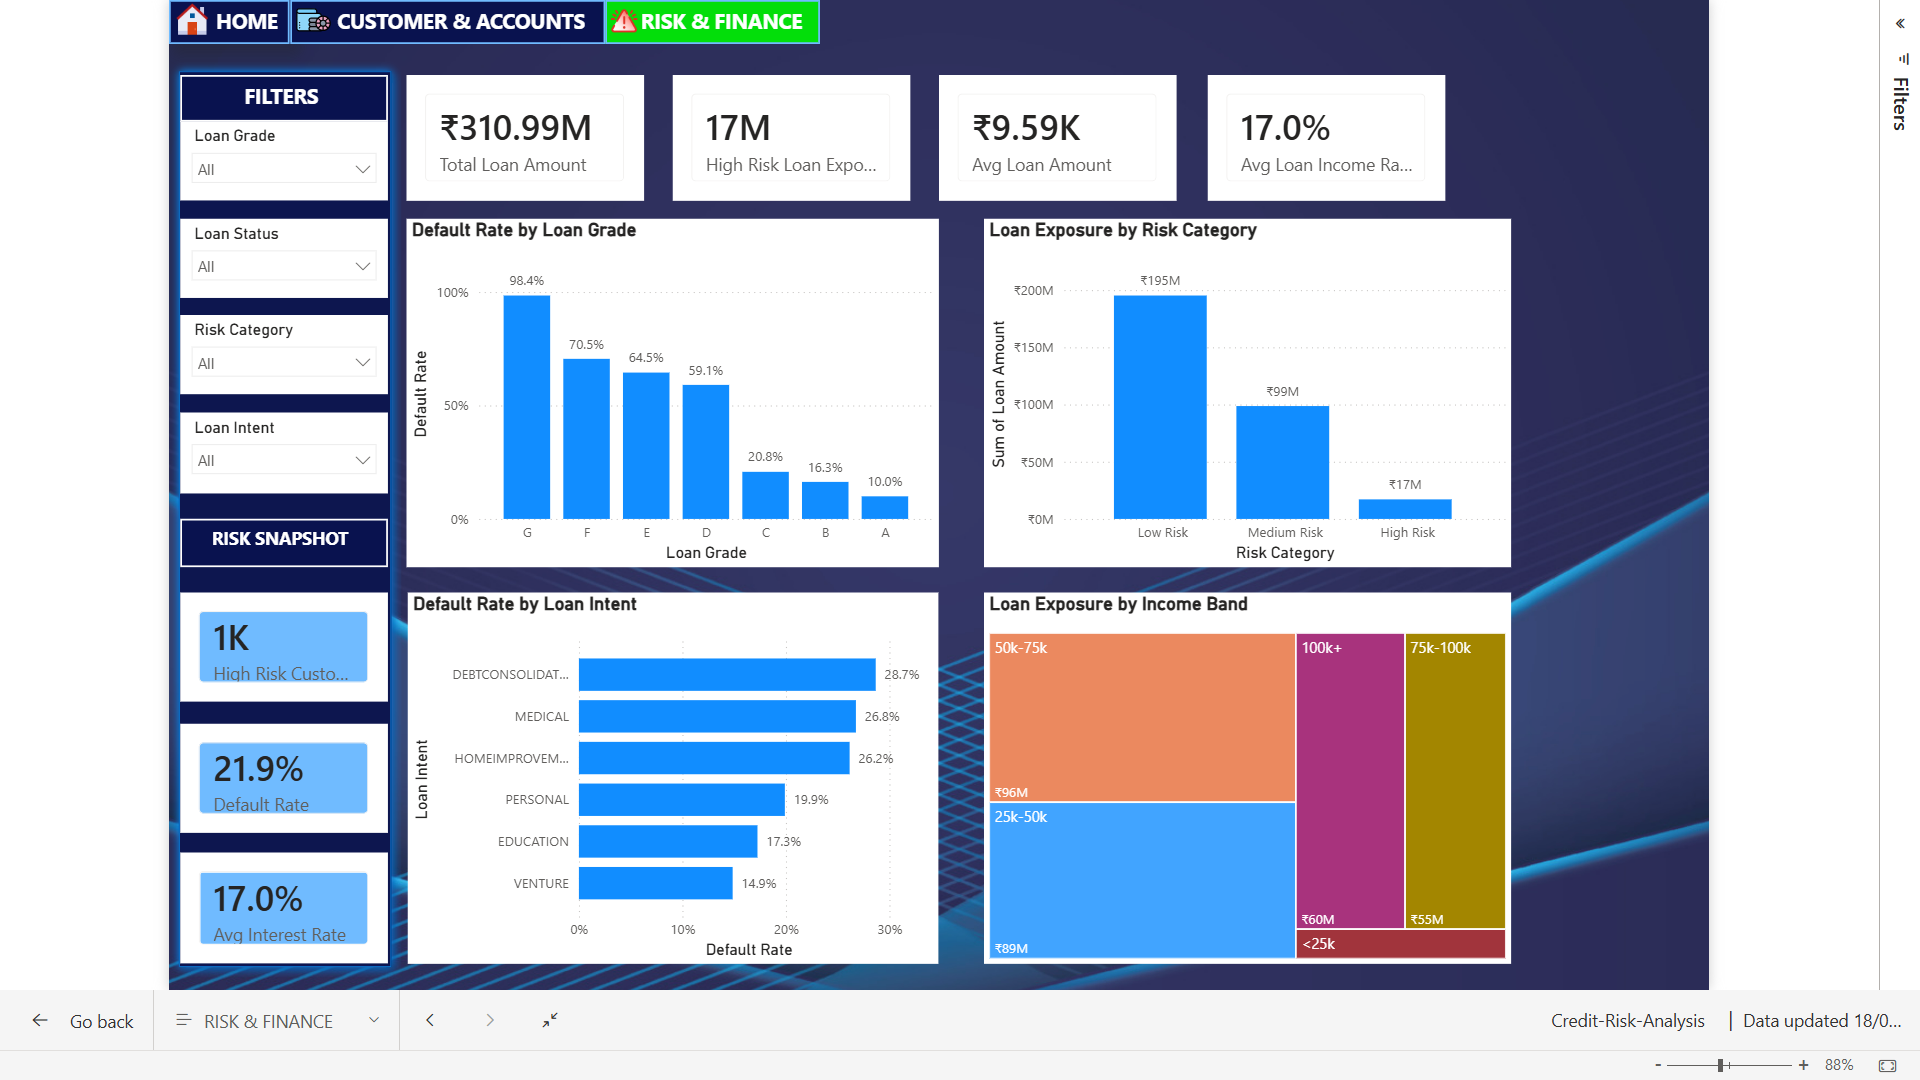

This screenshot's page, from the dashboard's own definition file:
{"tool":"powerbi","page":{"name":"RISK & FINANCE","canvas":[1400,900],"ordinal":2},"visuals":[{"type":"textbox","box":[0,0,109.8,39.8],"z":0},{"type":"textbox","box":[109.8,0,286.8,39.8],"z":1000},{"type":"textbox","box":[396.6,0,194.9,39.8],"z":2000},{"type":"actionButton","box":[0,0,109.8,39.8],"z":3000},{"type":"actionButton","box":[109.8,0,286.8,39.8],"z":4000},{"type":"image","box":[396.6,5.5,34.3,27.4],"z":5000},{"type":"image","box":[109.8,0,42.5,35.7],"z":6000},{"type":"shape","box":[0,55.8,211.1,832.4],"z":6500},{"type":"image","box":[0,0,42.5,34.3],"z":7000},{"type":"textbox","box":[10.6,67.9,188.5,42.2],"z":8001},{"type":"slicer","fields":{"Values":["credit_risk_dataset.Loan Grade"]},"box":[10.6,110.1,188.5,72.4],"z":8002},{"type":"slicer","fields":{"Values":["credit_risk_dataset.Loan Intent"]},"box":[10.6,375.5,188.5,73.9],"z":8003},{"type":"slicer","fields":{"Values":["credit_risk_dataset.Loan Status"]},"box":[10.6,199.1,188.5,72.4],"z":8005},{"type":"slicer","fields":{"Values":["credit_risk_dataset.Risk Category"]},"box":[10.6,286.5,188.5,72.4],"z":8006},{"type":"textbox","box":[10.6,472,188.5,43.7],"z":8007},{"type":"cardVisual","fields":{"Data":["credit_risk_dataset.High Risk Customers"]},"box":[10.6,538.4,188.5,99.5],"z":8008},{"type":"cardVisual","fields":{"Data":["credit_risk_dataset.Default Rate"]},"box":[10.6,657.5,188.5,99.5],"z":8009},{"type":"cardVisual","fields":{"Data":["credit_risk_dataset.Average Loan Income Ratio"]},"box":[10.6,775.1,188.5,101],"z":8011},{"type":"clusteredColumnChart","fields":{"Category":["credit_risk_dataset.Loan Grade"],"Y":["credit_risk_dataset.Default Rate"]},"box":[215.7,199.1,484.1,316.7],"z":8012},{"type":"cardVisual","fields":{"Data":["credit_risk_dataset.Total Loan Amount"]},"box":[215.7,67.9,215.7,114.6],"z":8013},{"type":"cardVisual","fields":{"Data":["credit_risk_dataset.High Risk Loan Exposure"]},"box":[458.4,67.9,215.7,114.6],"z":8014},{"type":"cardVisual","fields":{"Data":["credit_risk_dataset.Average Loan Amount"]},"box":[699.7,67.9,215.7,114.6],"z":8015},{"type":"cardVisual","fields":{"Data":["credit_risk_dataset.Average Loan Income Ratio"]},"box":[944,67.9,215.7,114.6],"z":8016},{"type":"clusteredColumnChart","title":"Loan Exposure by Risk Category","fields":{"Category":["credit_risk_dataset.Risk Category"],"Y":["Sum(credit_risk_dataset.Loan Amount)"]},"box":[740.5,199.1,479.6,316.7],"z":8017},{"type":"clusteredBarChart","fields":{"Category":["credit_risk_dataset.Loan Intent"],"Y":["credit_risk_dataset.Default Rate"]},"box":[217.2,538.4,482.6,337.8],"z":8018},{"type":"treemap","title":"Loan Exposure by Income Band","fields":{"Group":["credit_risk_dataset.Income Band"],"Values":["Sum(credit_risk_dataset.Loan Amount)"]},"box":[740.5,538.4,479.6,337.8],"z":8019}]}

Visuals, with their boxes on the page's 1400x900 design canvas (x1, y1, x2, y2). These are canvas units, not pixel positions in the 1920x1080 screenshot, which may show the page scaled, cropped or inside an application window:
textbox: [0,0,110,40]
textbox: [110,0,397,40]
textbox: [397,0,592,40]
actionButton: [0,0,110,40]
actionButton: [110,0,397,40]
image: [397,6,431,33]
image: [110,0,152,36]
shape: [0,56,211,888]
image: [0,0,42,34]
textbox: [11,68,199,110]
slicer - credit_risk_dataset.Loan Grade: [11,110,199,182]
slicer - credit_risk_dataset.Loan Intent: [11,376,199,449]
slicer - credit_risk_dataset.Loan Status: [11,199,199,272]
slicer - credit_risk_dataset.Risk Category: [11,286,199,359]
textbox: [11,472,199,516]
cardVisual - credit_risk_dataset.High Risk Customers: [11,538,199,638]
cardVisual - credit_risk_dataset.Default Rate: [11,658,199,757]
cardVisual - credit_risk_dataset.Average Loan Income Ratio: [11,775,199,876]
clusteredColumnChart - credit_risk_dataset.Loan Grade x credit_risk_dataset.Default Rate: [216,199,700,516]
cardVisual - credit_risk_dataset.Total Loan Amount: [216,68,431,182]
cardVisual - credit_risk_dataset.High Risk Loan Exposure: [458,68,674,182]
cardVisual - credit_risk_dataset.Average Loan Amount: [700,68,915,182]
cardVisual - credit_risk_dataset.Average Loan Income Ratio: [944,68,1160,182]
"Loan Exposure by Risk Category" clusteredColumnChart: [740,199,1220,516]
clusteredBarChart - credit_risk_dataset.Loan Intent x credit_risk_dataset.Default Rate: [217,538,700,876]
"Loan Exposure by Income Band" treemap: [740,538,1220,876]
